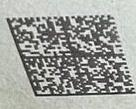datamatrix: (7, 16, 136, 97)
